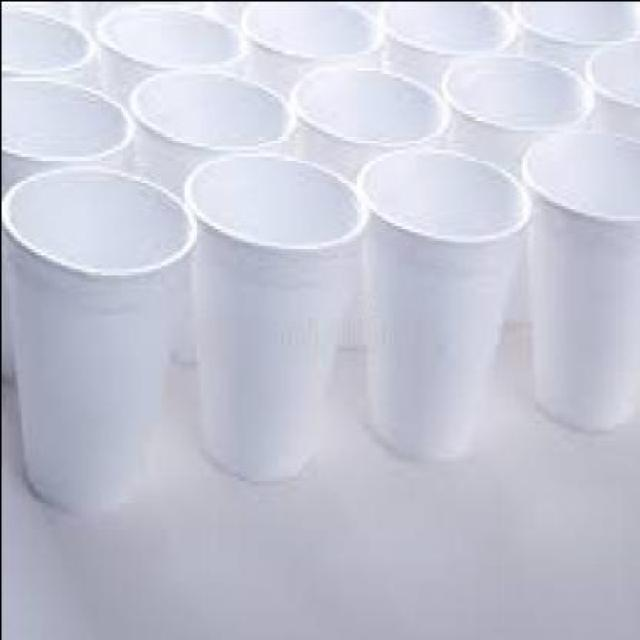PAPER: (1, 160, 194, 506), (183, 148, 366, 472), (351, 145, 524, 452), (519, 126, 638, 426), (123, 62, 297, 198), (288, 60, 450, 205), (440, 46, 591, 182), (1, 66, 133, 182), (92, 2, 245, 66), (235, 2, 383, 66), (374, 2, 514, 66), (511, 1, 638, 57), (2, 1, 92, 77), (582, 33, 638, 132)
